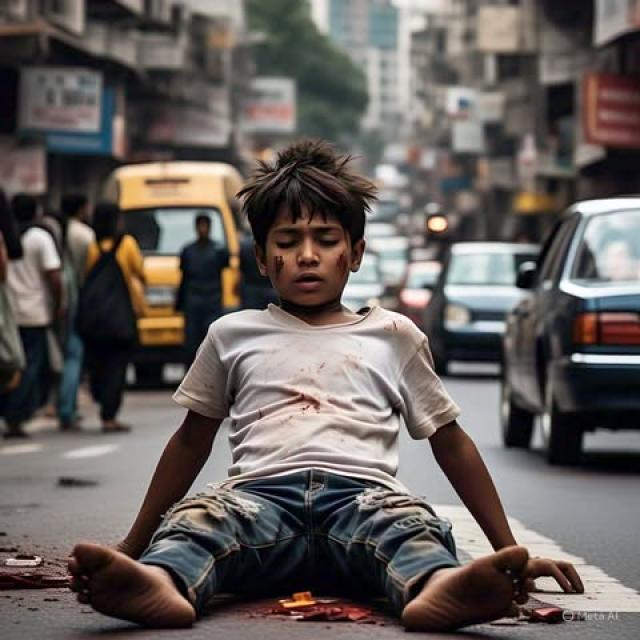injury: (237, 141, 379, 325), (333, 244, 351, 276), (271, 255, 283, 280)
